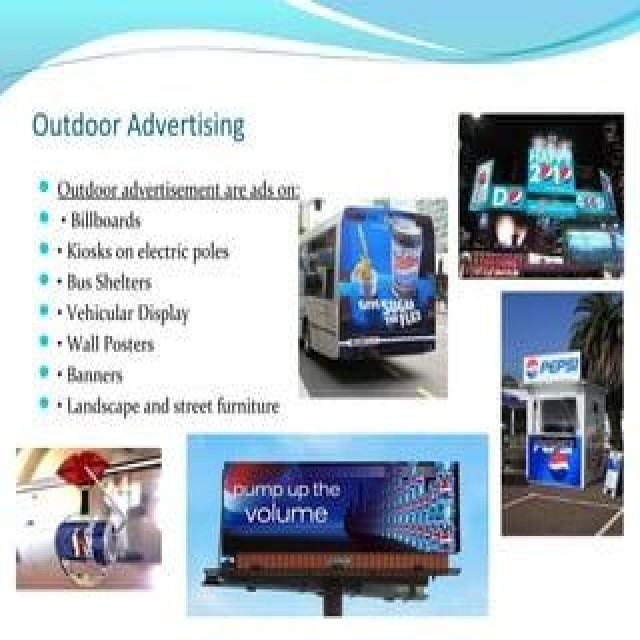pepsi: (548, 449, 573, 482)
